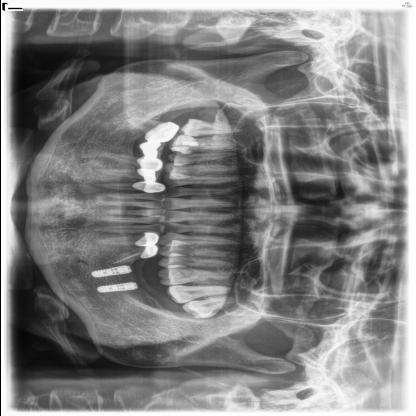ITI: (86, 264, 137, 281), (94, 280, 140, 294)
